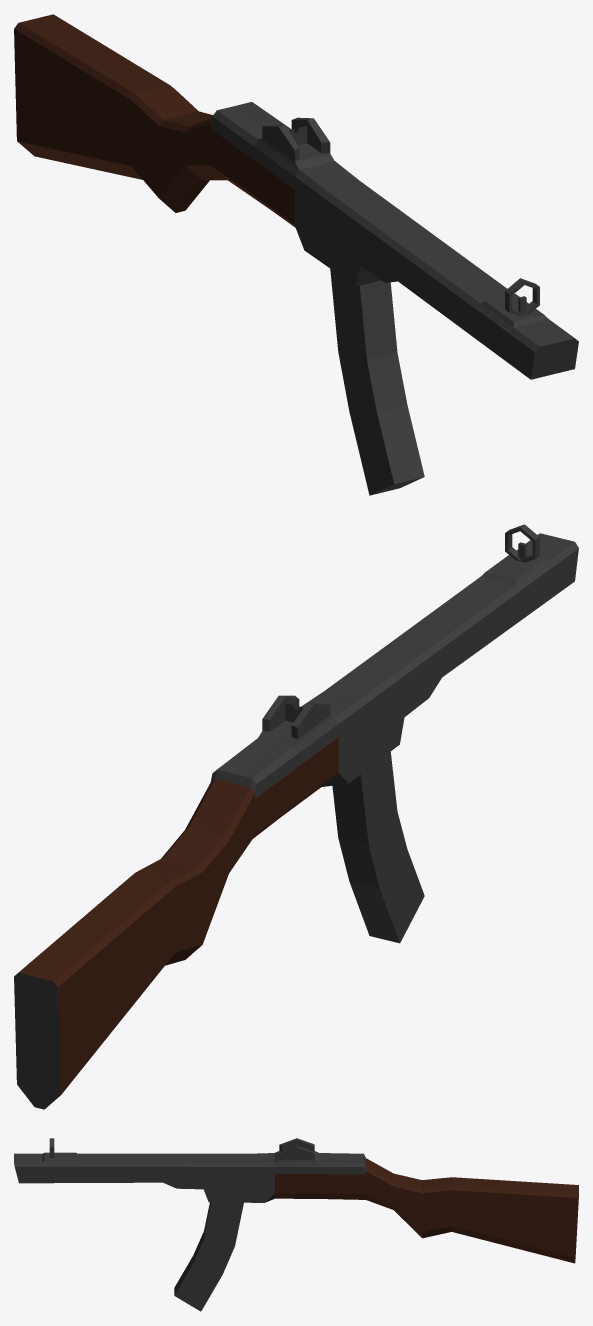
Rendered from ppsh.glb.
3 views of the same model, one above another, from view 1: azimuth 30°, elevation 25°; view 2: azimuth 150°, elevation 25°; view 3: azimuth 270°, elevation 25° (orthographic). The views are drawn at different scales.
Visible parts, largest first — view 1: Stock, Magazine; view 2: Stock, Magazine; view 3: Stock, Magazine.
Part boxes in pixels (x1,y1,x2,y2): Stock: (14, 14, 578, 379); Magazine: (330, 269, 424, 495); Stock: (14, 524, 578, 1109); Magazine: (332, 752, 424, 943); Stock: (14, 1138, 578, 1263); Magazine: (174, 1202, 243, 1311).
Size of the model in its own units: 0.2178 by 1.48 by 4.46.
